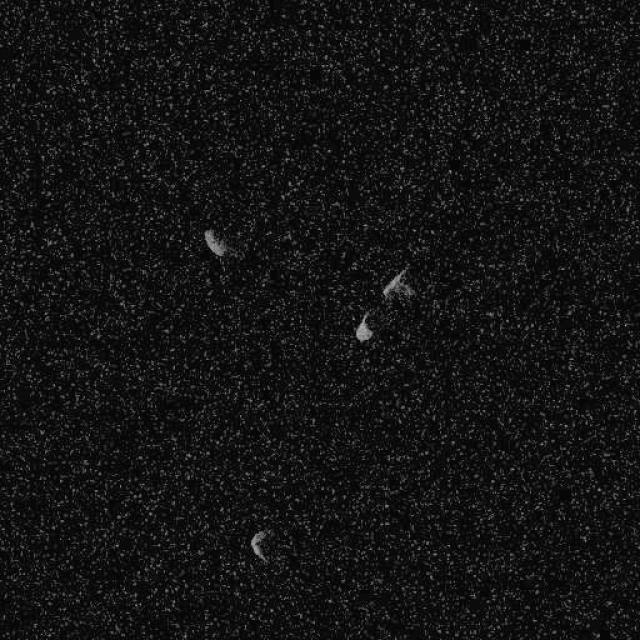D2: (381, 266, 415, 302), (248, 528, 272, 564), (202, 228, 228, 258), (354, 310, 374, 342)
